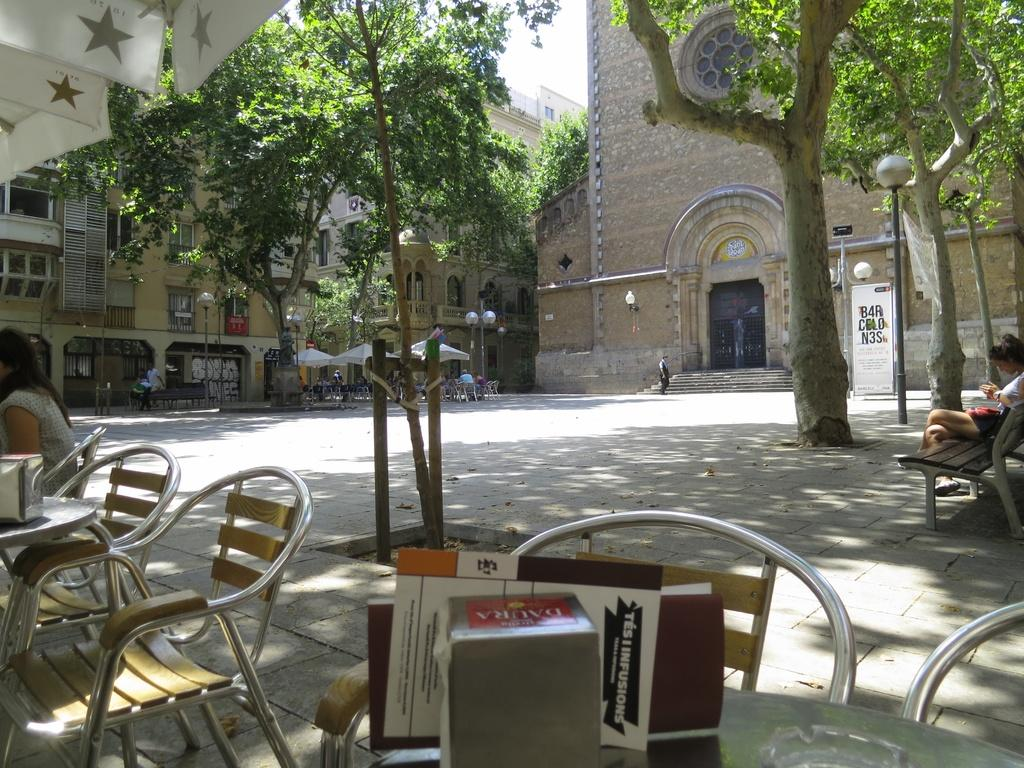Chair: (0, 464, 313, 767), (896, 402, 1023, 538)
